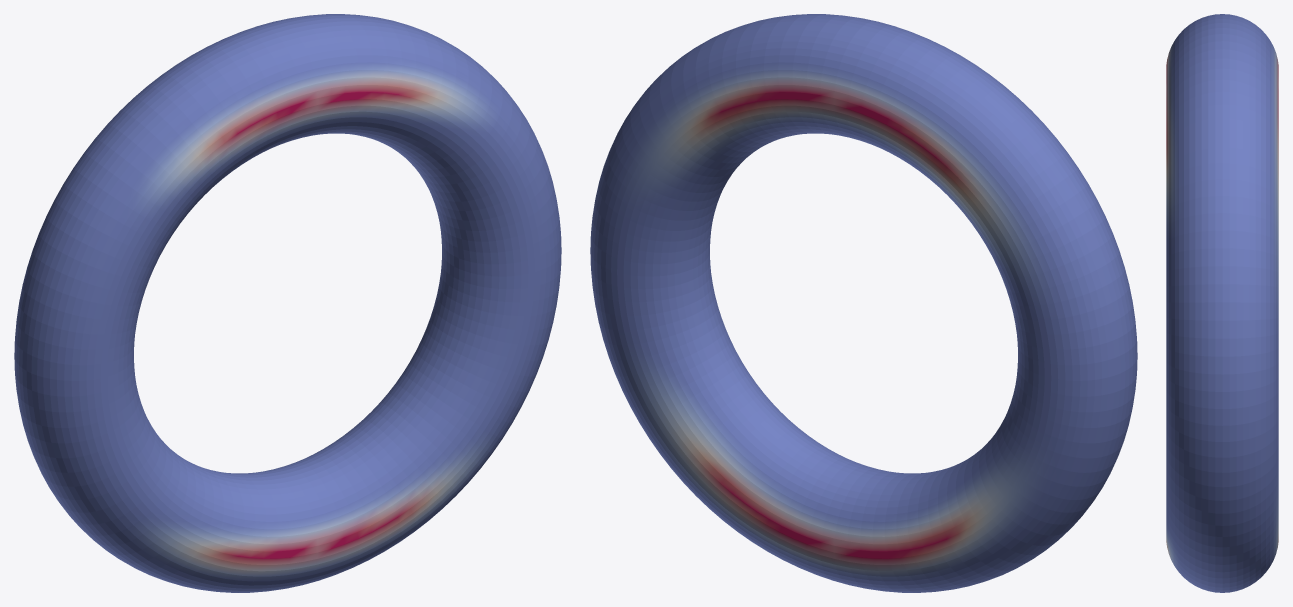
3 renders of one model, left to right at view 1: azimuth 30°, elevation 25°; view 2: azimuth 150°, elevation 25°; view 3: azimuth 270°, elevation 25°, orthographic. The views are drawn at different scales.
Parts seen in each view (by area): view 1: world; view 2: world; view 3: world.
Part boxes in pixels (x1=…): world: x1=14, y1=14, x2=561, y2=592; world: x1=590, y1=14, x2=1137, y2=592; world: x1=1166, y1=14, x2=1278, y2=592.
Size of the model in its own units: 15.73 by 15.73 by 3.06.
